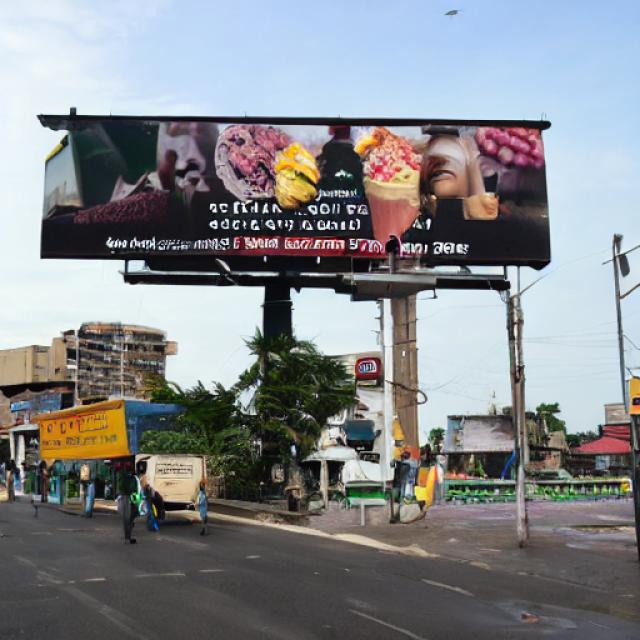Billboard: (39, 113, 554, 273)
